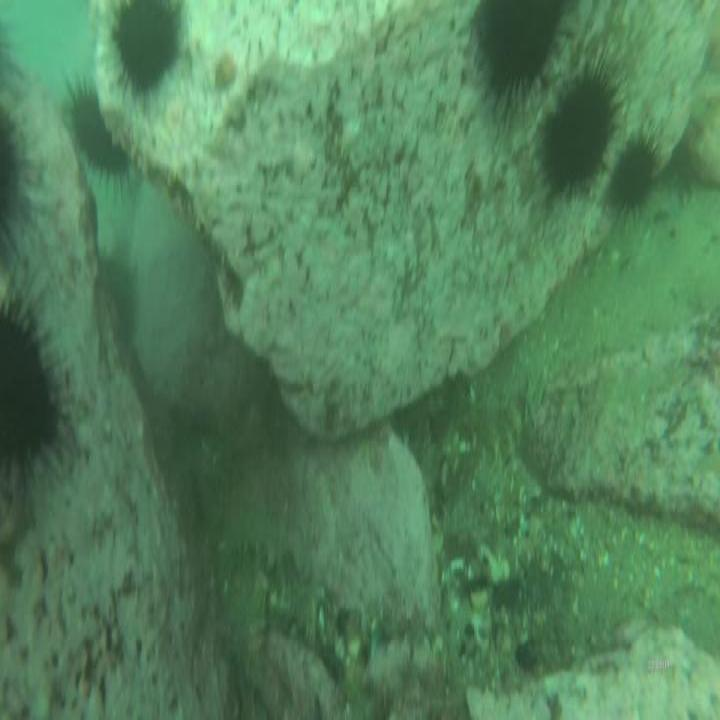echinus: (0, 284, 85, 490), (535, 60, 625, 208), (468, 2, 582, 115), (54, 70, 145, 204), (105, 2, 191, 110), (0, 103, 50, 272), (603, 121, 665, 233)
